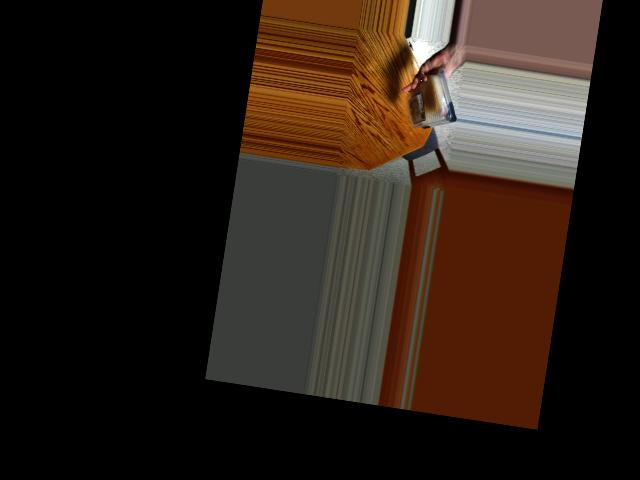cheese: (403, 71, 458, 133)
